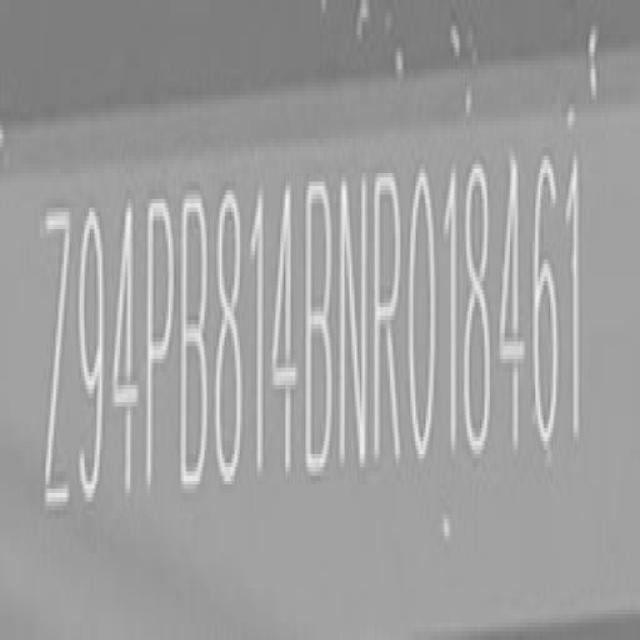0: (406, 166, 439, 470)
1: (565, 144, 587, 451), (248, 186, 268, 491), (440, 162, 458, 464)
4: (496, 154, 529, 459), (271, 181, 304, 481), (111, 202, 143, 509)
6: (531, 152, 561, 457)
8: (212, 186, 244, 489), (461, 157, 492, 461)
9: (75, 211, 110, 515)
B: (304, 174, 340, 476), (180, 191, 213, 499)
N: (341, 173, 373, 474)
P: (141, 193, 177, 505)
R: (372, 165, 408, 472)
Z: (42, 209, 76, 526)
